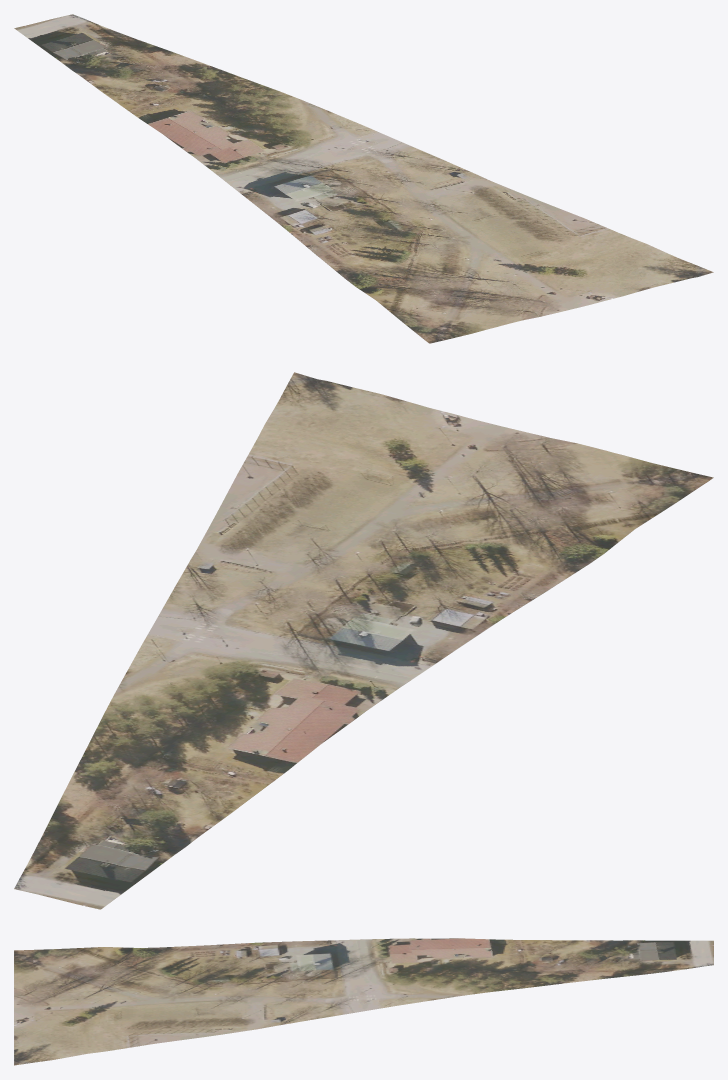
The model's file is CM_Terrain_24491687_6820613.fbx.
3 views of the same model, one above another, from view 1: azimuth 30°, elevation 25°; view 2: azimuth 150°, elevation 25°; view 3: azimuth 270°, elevation 25° (orthographic). The views are drawn at different scales.
Visible parts, largest first — view 1: CM_Terrain_24491687_6820613_LOD0; view 2: CM_Terrain_24491687_6820613_LOD0; view 3: CM_Terrain_24491687_6820613_LOD0.
Part boxes in pixels (x1=…): CM_Terrain_24491687_6820613_LOD0: x1=14, y1=14, x2=713, y2=343; CM_Terrain_24491687_6820613_LOD0: x1=14, y1=372, x2=713, y2=909; CM_Terrain_24491687_6820613_LOD0: x1=14, y1=938, x2=713, y2=1065.
Size of what is drawn, in the model's own units: 80.94 by 4.11 by 205.
